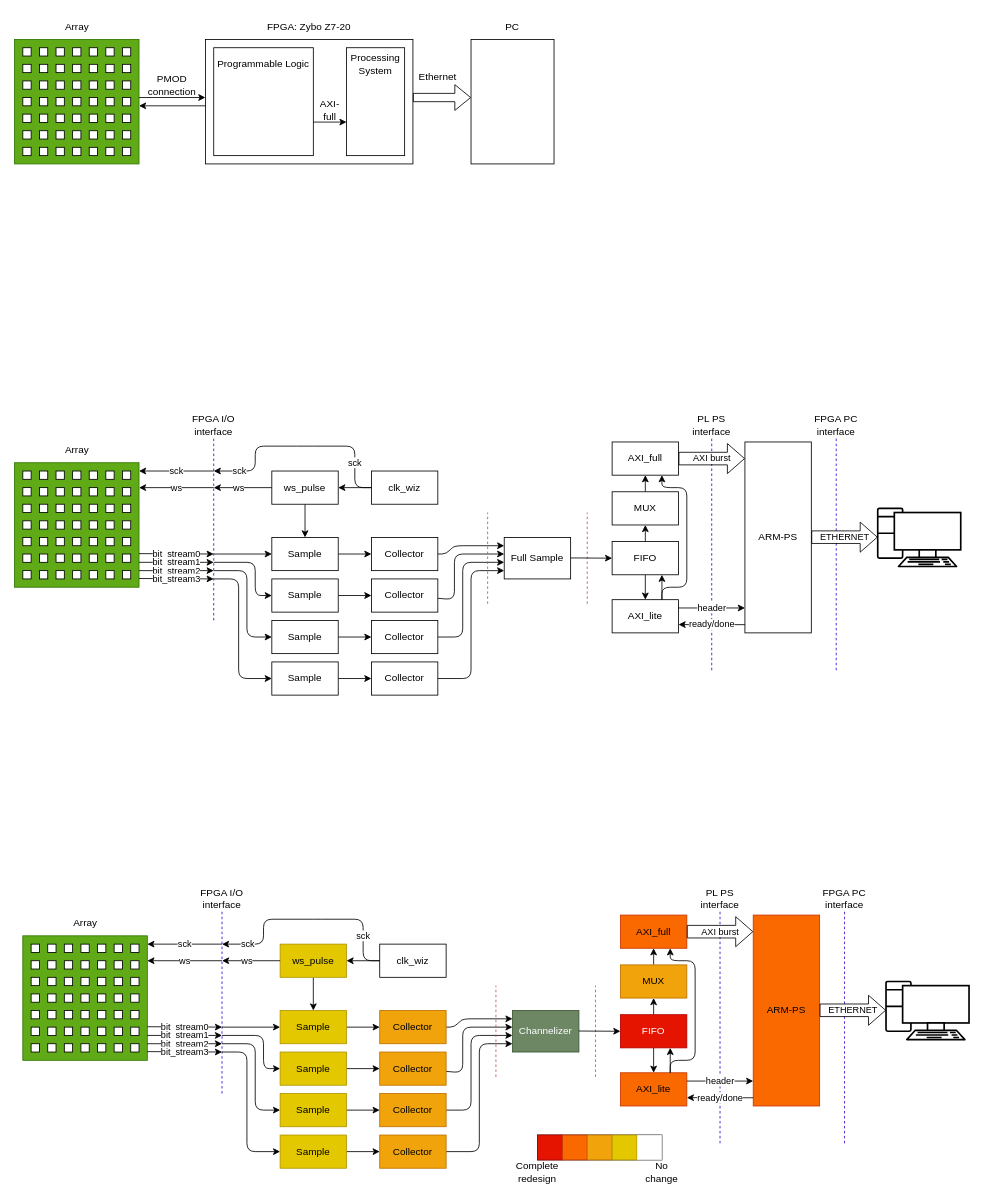
Some shapes in this 984 by 1199 pixel diagram are drawn without their labels. The shapes that lost their labels are listed below. From the top down, each one's box as (x1, y1, x2, y2) in pixels, then its label:
(213, 47, 313, 156): Sampling, Data organization
(346, 47, 405, 156): UDP transmitter
(470, 39, 554, 164): Beamforming, Visualization
